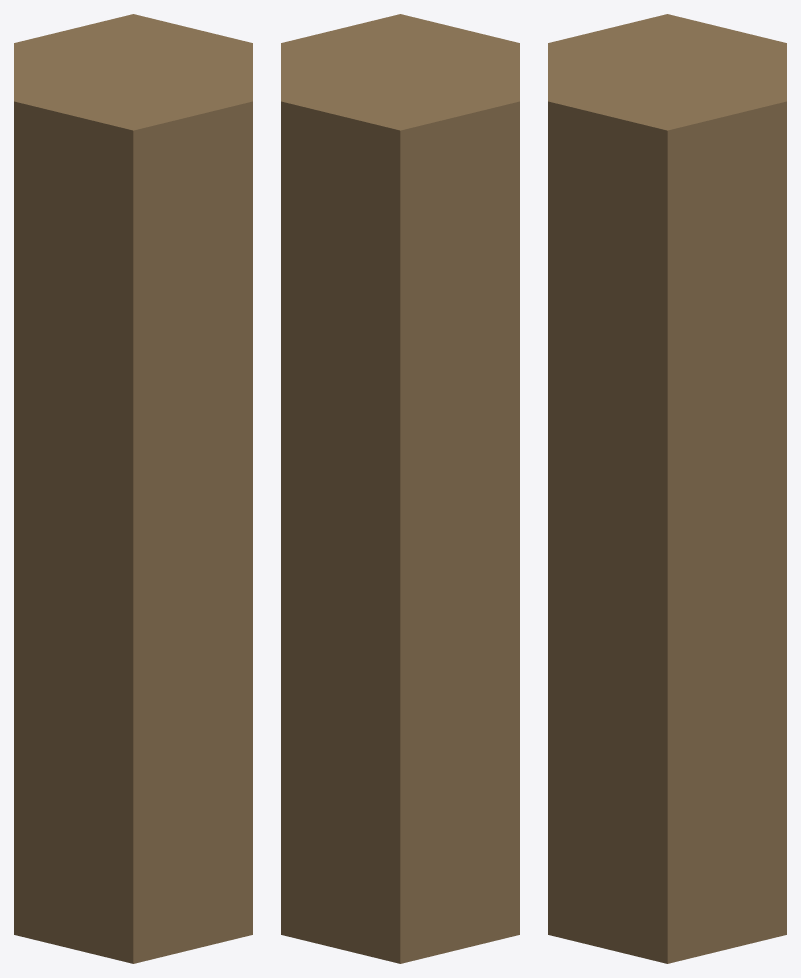
File: prim_cylinder_dark_brown.glb
3 renders of one model, left to right at view 1: azimuth 30°, elevation 25°; view 2: azimuth 150°, elevation 25°; view 3: azimuth 270°, elevation 25°, orthographic.
Parts seen in each view (by area): view 1: prim_cylinder_dark_brown; view 2: prim_cylinder_dark_brown; view 3: prim_cylinder_dark_brown.
Part boxes in pixels (x1,y1,x2,y2): prim_cylinder_dark_brown: (14,14,252,963); prim_cylinder_dark_brown: (281,14,519,963); prim_cylinder_dark_brown: (548,14,786,963).
Size of the model in its own units: 0.3 by 1 by 0.2598.
